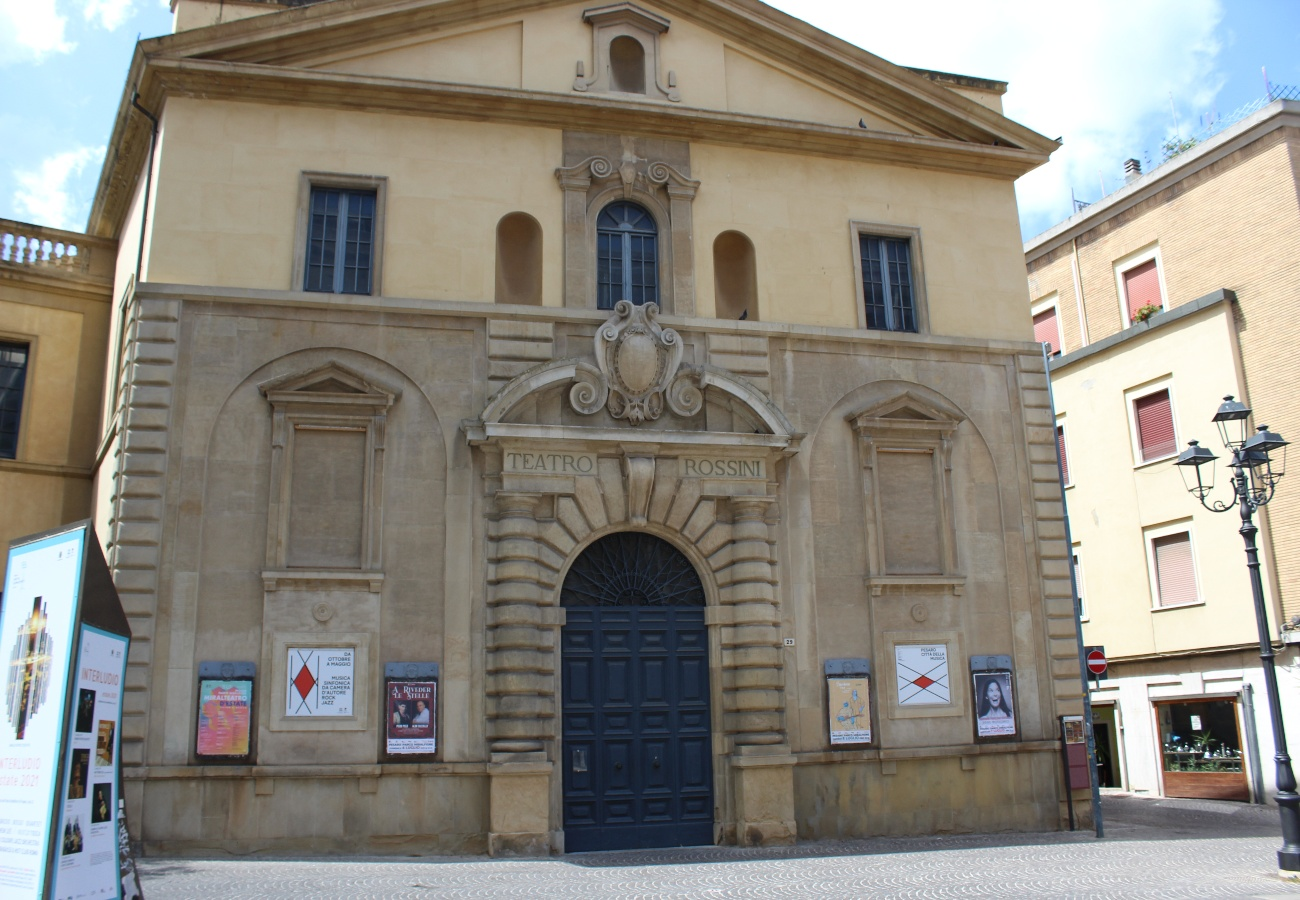Teatro Rossini: (116, 1, 1102, 865)
